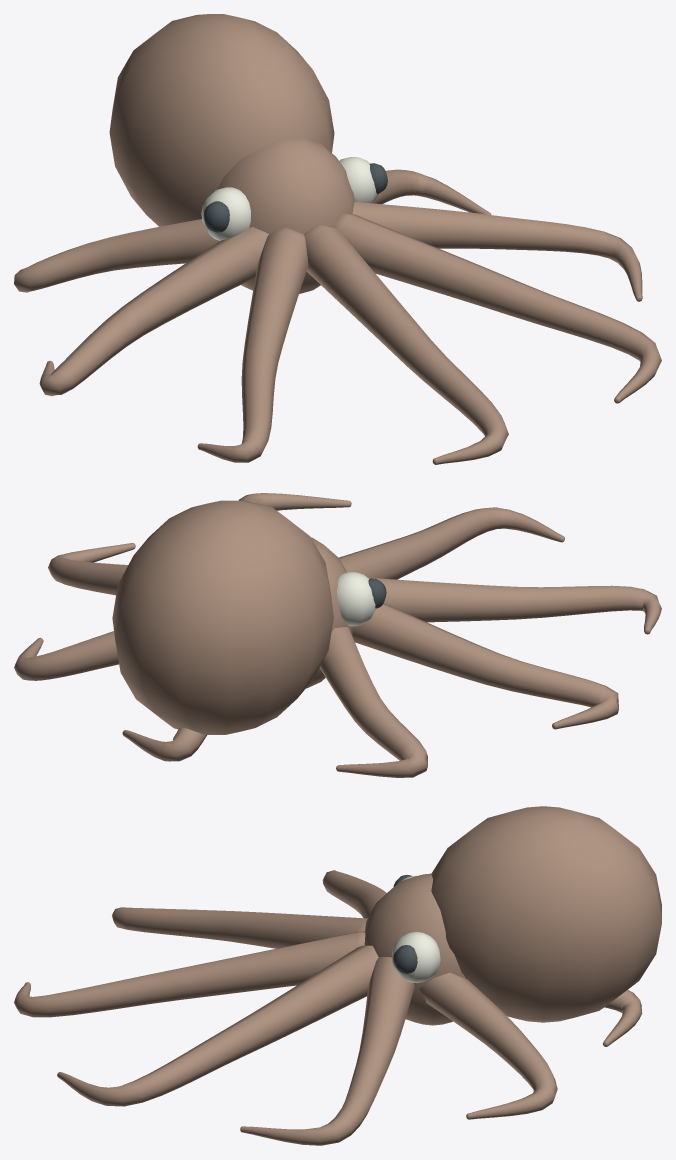
The picture shows the model from 3 angles, top to bottom: view 1: azimuth 30°, elevation 25°; view 2: azimuth 150°, elevation 25°; view 3: azimuth 270°, elevation 25°; orthographic projection. The views are drawn at different scales.
Visible parts, largest first — view 1: common-octopus; view 2: common-octopus; view 3: common-octopus.
Part boxes in pixels (left/top/right/bottom): common-octopus: left=14, top=14, right=661, bottom=464; common-octopus: left=14, top=493, right=661, bottom=777; common-octopus: left=14, top=806, right=661, bottom=1145.
Bounding box in the file's own units: 1.06 × 0.3846 × 1.1.
